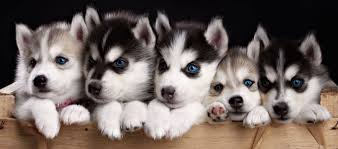Siberian Husky: (5, 14, 84, 122), (83, 19, 150, 128), (154, 21, 212, 140), (256, 39, 334, 125), (217, 53, 259, 128)
